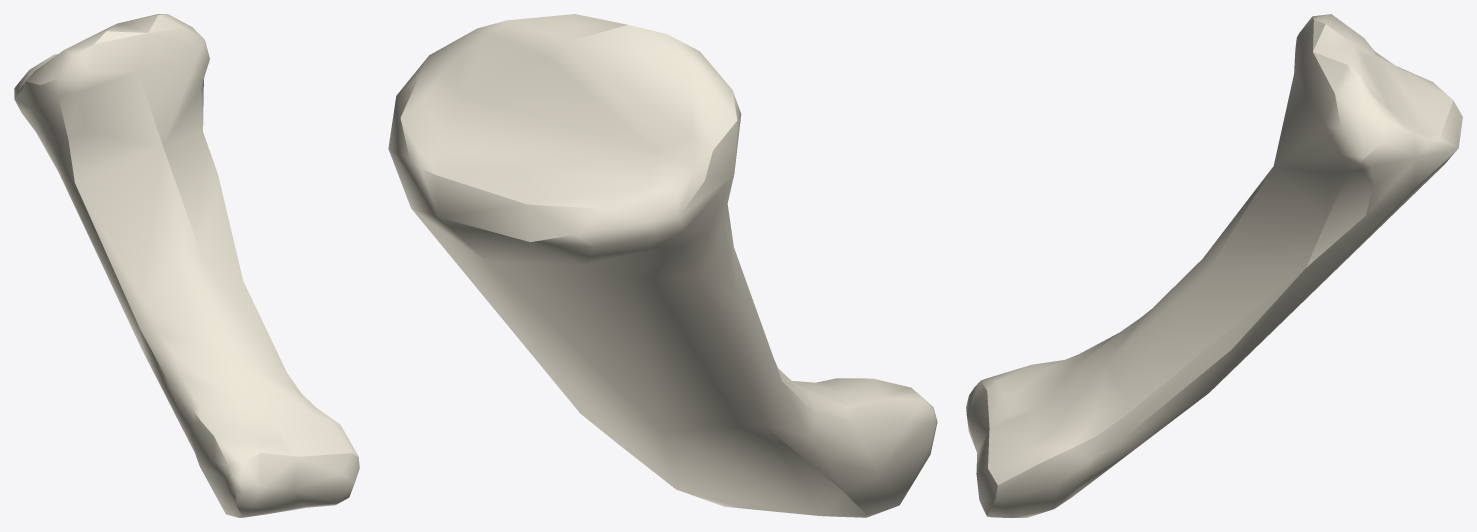
The model's file is fma23942_fj3291.glb.
3 views of the same model, side by side, from view 1: azimuth 30°, elevation 25°; view 2: azimuth 150°, elevation 25°; view 3: azimuth 270°, elevation 25° (orthographic). The views are drawn at different scales.
Parts seen in each view (by area): view 1: FMA23942_FJ3291; view 2: FMA23942_FJ3291; view 3: FMA23942_FJ3291.
Part boxes in pixels (<box>): FMA23942_FJ3291: <box>14,14,359,517</box>; FMA23942_FJ3291: <box>388,14,937,517</box>; FMA23942_FJ3291: <box>966,14,1462,517</box>.
Size of the model in its own units: 0.0117 by 0.0239 by 0.0238.
